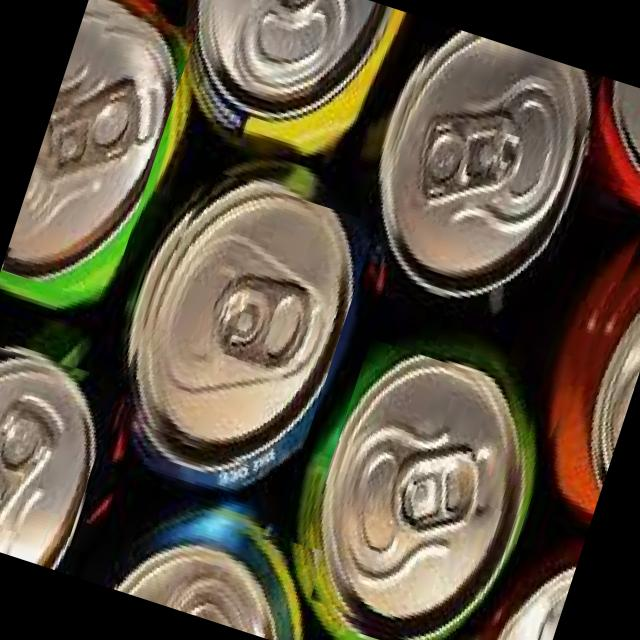Cans: (106, 162, 376, 483), (283, 337, 546, 640), (356, 19, 602, 306), (0, 0, 196, 303), (114, 493, 328, 640), (532, 219, 640, 496), (180, 0, 390, 139), (0, 332, 120, 556), (479, 534, 582, 640), (585, 80, 640, 214)
